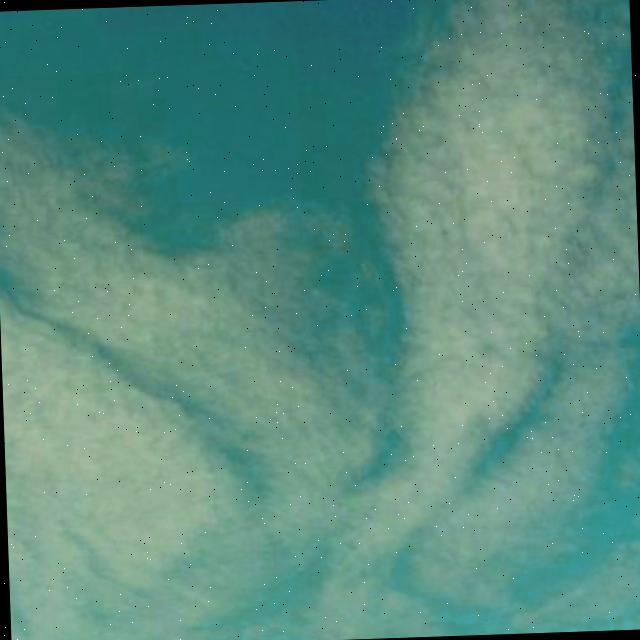Cc: (1, 11, 640, 628)
